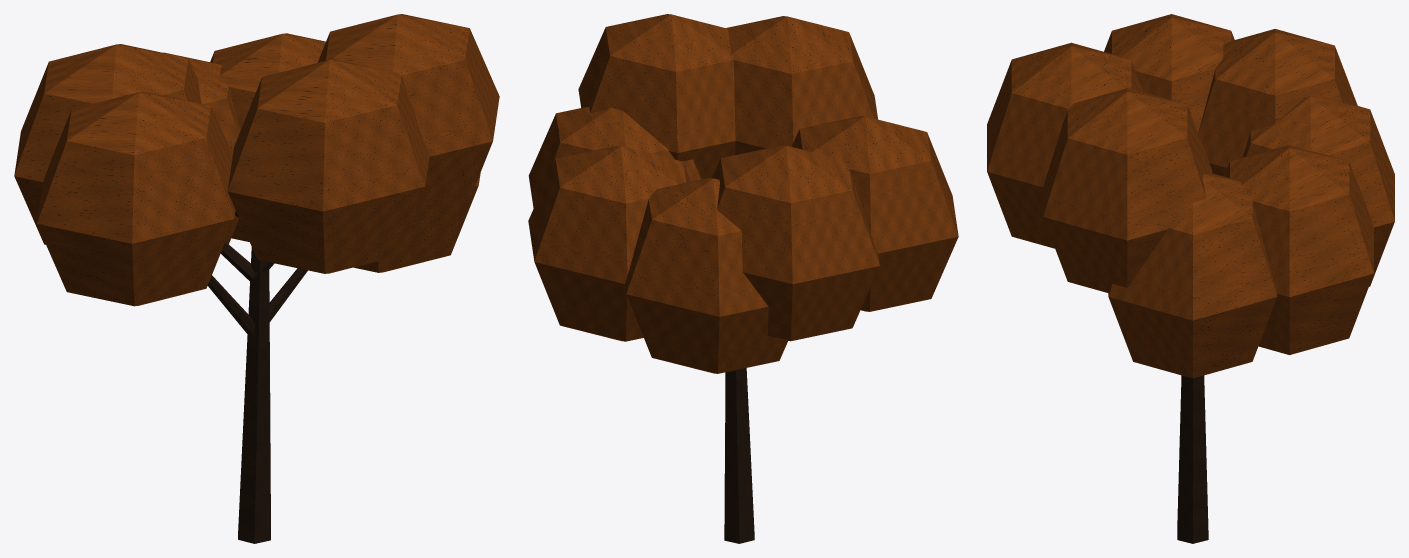
File: PROP-10B04C281AA0_lod2.glb
The picture shows the model from 3 angles, left to right: view 1: azimuth 30°, elevation 25°; view 2: azimuth 150°, elevation 25°; view 3: azimuth 270°, elevation 25°; orthographic projection. The views are drawn at different scales.
Visible parts, largest first — view 1: leaf_crown.086, trunk.078, branch.050; view 2: leaf_crown.086, trunk.078; view 3: leaf_crown.086, trunk.078.
Boxes of the visible parts, box(x1,y1,x2,y2) form: leaf_crown.086: box(14, 14, 499, 306); trunk.078: box(238, 247, 270, 543); branch.050: box(207, 210, 307, 335); leaf_crown.086: box(528, 14, 958, 373); trunk.078: box(724, 368, 754, 543); leaf_crown.086: box(987, 14, 1394, 378); trunk.078: box(1177, 375, 1208, 543).
Bounding box in the file's own units: 6.69 × 7.24 × 5.41.
2 materials, 2 textured.
